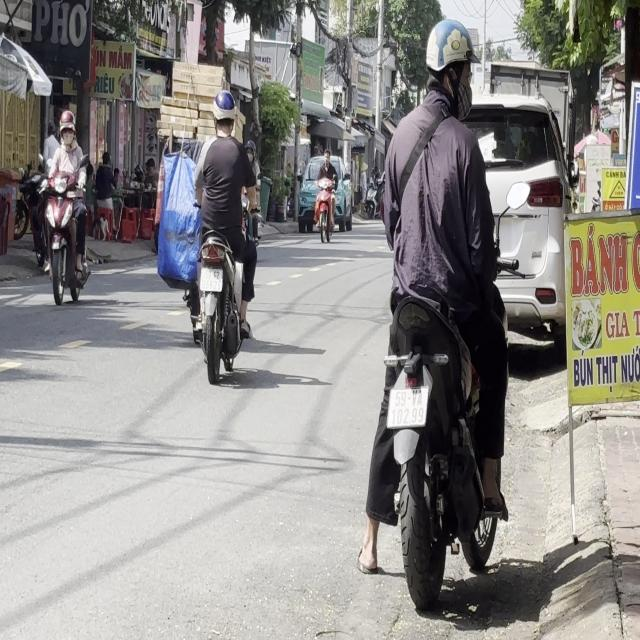helmet: (424, 17, 475, 112), (211, 88, 236, 135), (58, 109, 76, 146)
licenseplate: (358, 15, 518, 617), (187, 85, 259, 378), (40, 107, 92, 305)
nohelmet: (387, 387, 427, 426), (200, 268, 223, 292)
